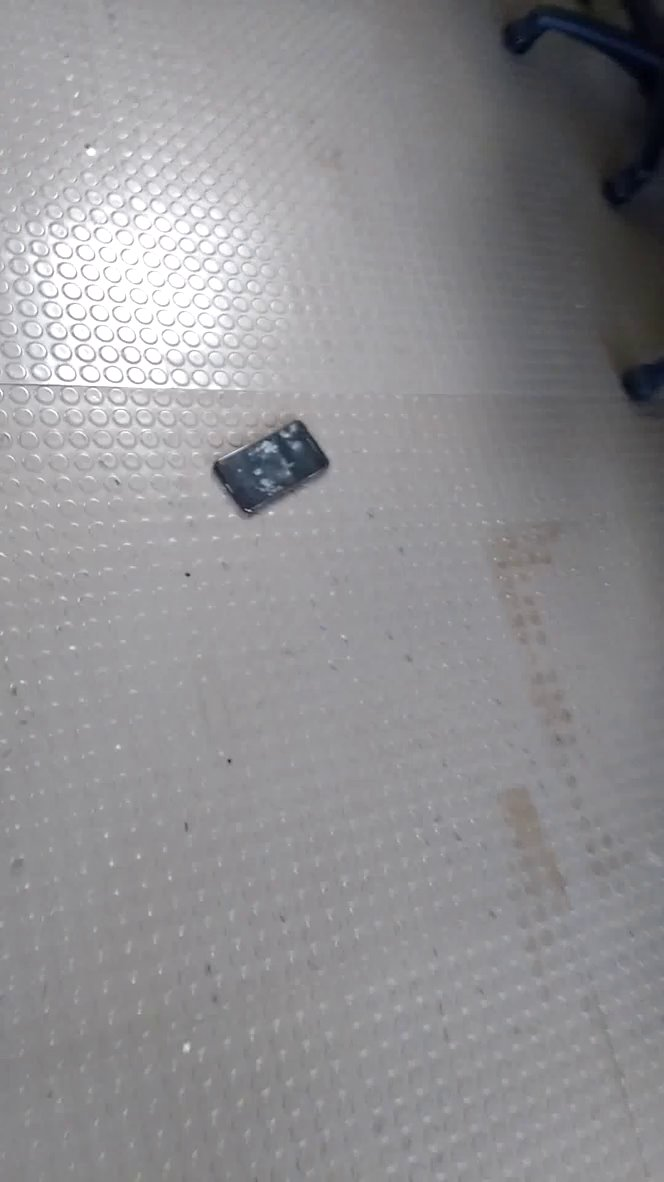phone: (204, 411, 343, 525)
